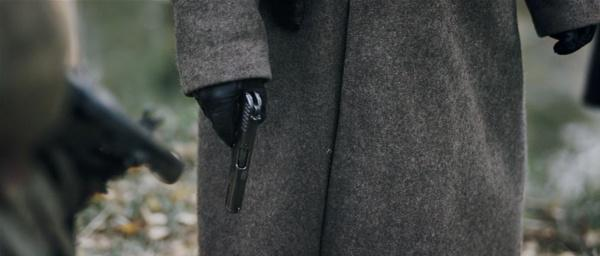Gun: (62, 68, 184, 201), (219, 91, 266, 215)
